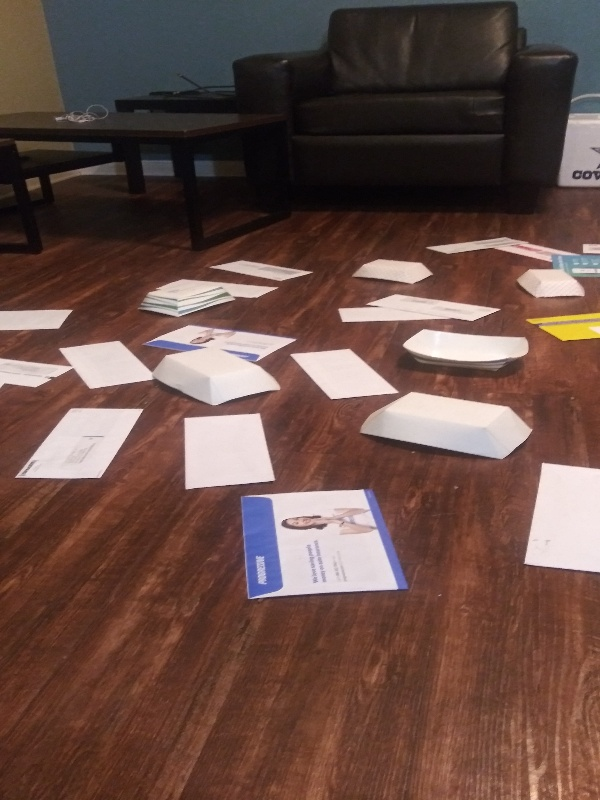plate: (357, 392, 538, 463), (148, 346, 285, 411), (400, 326, 534, 375), (131, 279, 238, 319), (346, 256, 437, 286), (512, 267, 587, 301)
